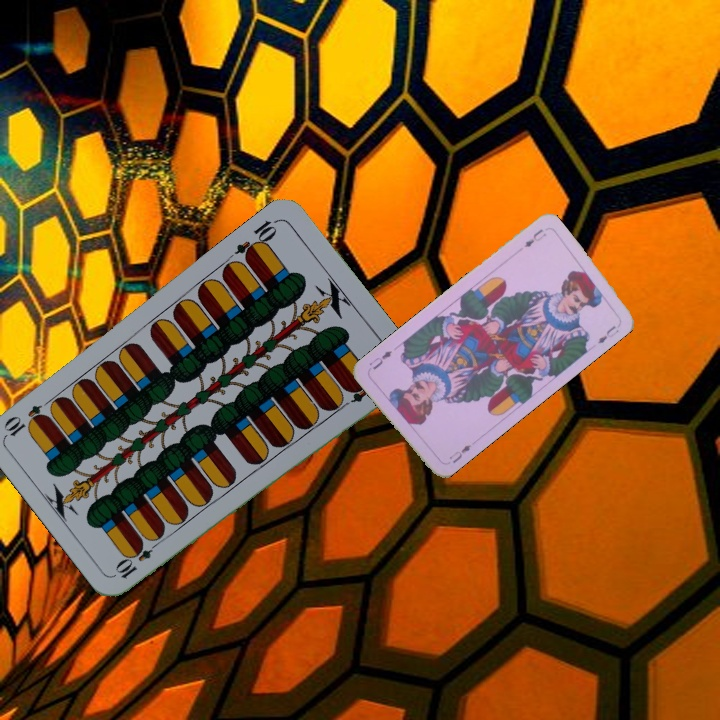E10: (231, 215, 281, 264), (112, 535, 164, 582)
EU: (445, 440, 474, 466), (520, 225, 549, 250)
